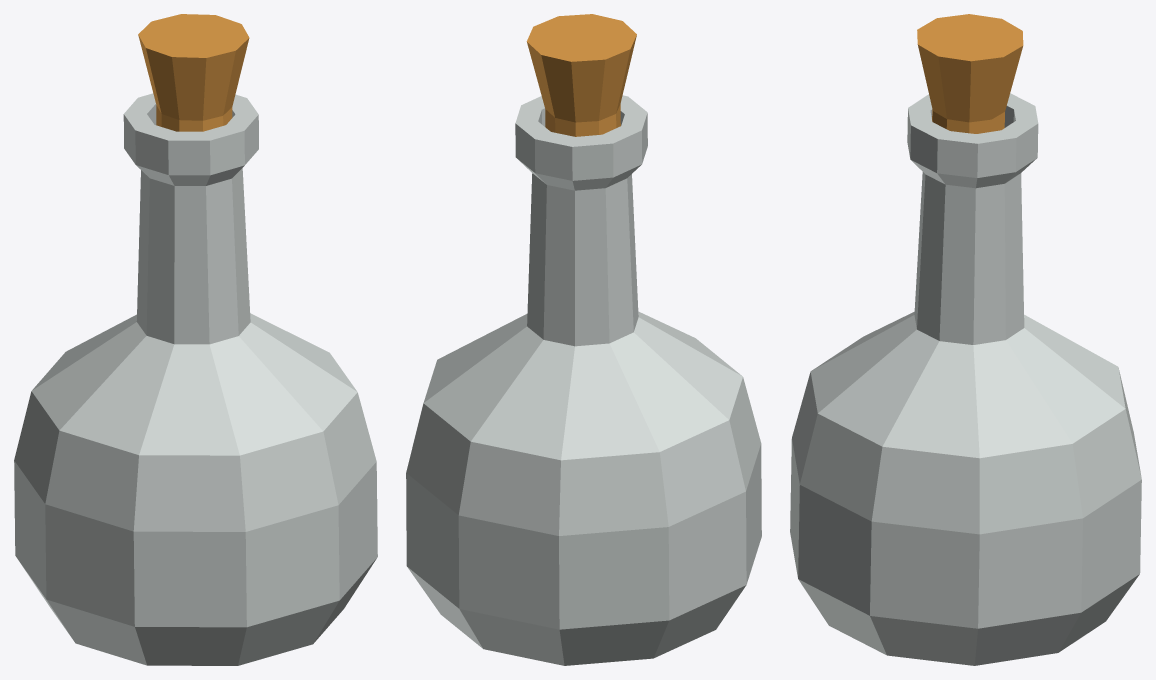
File: med.glb
3 renders of one model, left to right at view 1: azimuth 30°, elevation 25°; view 2: azimuth 150°, elevation 25°; view 3: azimuth 270°, elevation 25°, orthographic.
Visible parts, largest first — view 1: group2068853349; view 2: group2068853349; view 3: group2068853349.
Boxes of the visible parts, x1=… form: group2068853349: x1=14, y1=14, x2=377, y2=665; group2068853349: x1=406, y1=14, x2=761, y2=665; group2068853349: x1=790, y1=14, x2=1141, y2=665.
Size of the model in its own units: 0.1897 by 0.3408 by 0.1853.
